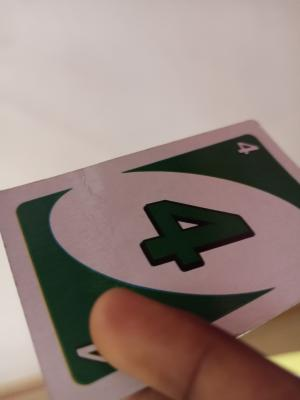num_4: (229, 139, 266, 161)
